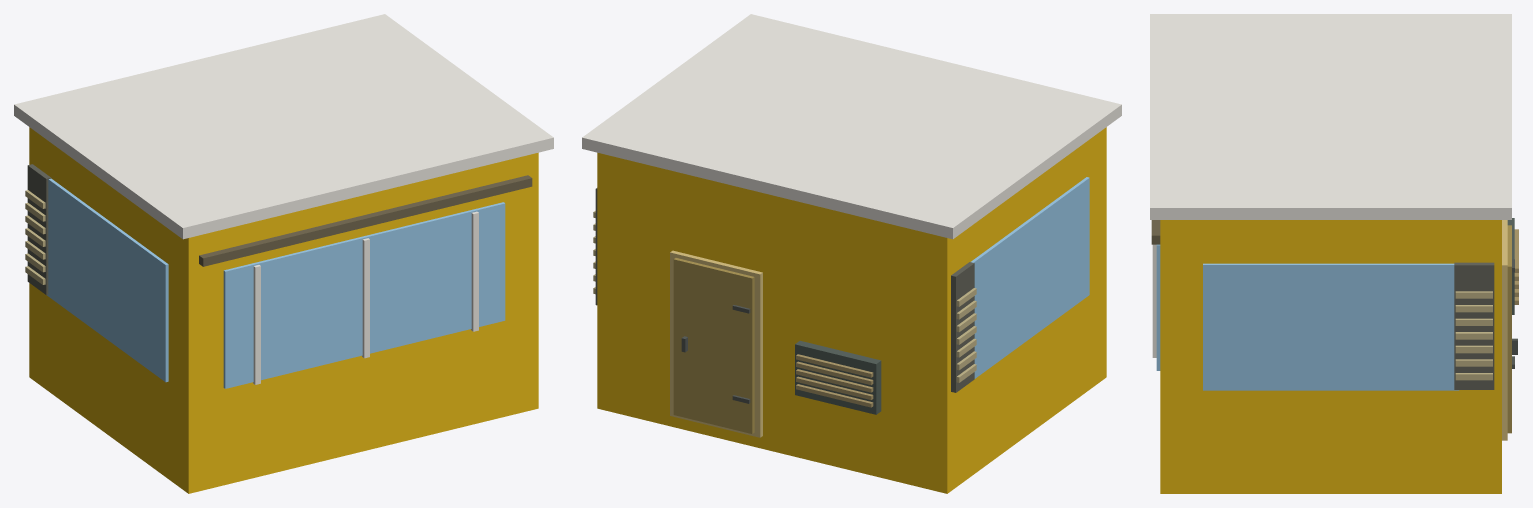
Rendered from crane-cab.glb.
The picture shows the model from 3 angles, left to right: view 1: azimuth 30°, elevation 25°; view 2: azimuth 150°, elevation 25°; view 3: azimuth 270°, elevation 25°; orthographic projection. The views are drawn at different scales.
Visible parts, largest first — view 1: crane-cab, Operators_cab_and_ventilation; view 2: crane-cab, Operators_cab_and_ventilation; view 3: crane-cab, Operators_cab_and_ventilation.
Boxes of the visible parts, <box> form: crane-cab: <box>14,14,553,493</box>; Operators_cab_and_ventilation: <box>25,164,532,384</box>; crane-cab: <box>582,14,1121,493</box>; Operators_cab_and_ventilation: <box>593,188,976,437</box>; crane-cab: <box>1150,14,1511,493</box>; Operators_cab_and_ventilation: <box>1151,218,1518,440</box>.
Size of the model in its own units: 5.51 by 3.86 by 4.43.
